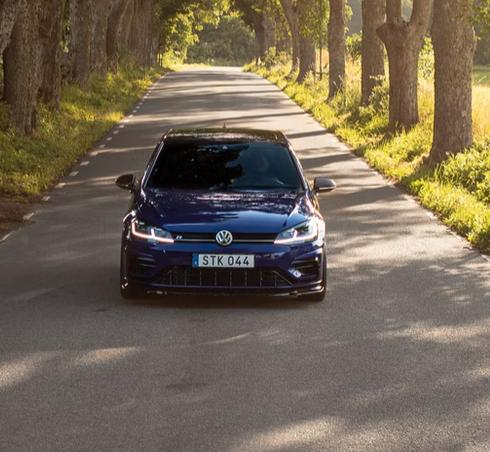car: (104, 107, 356, 326)
